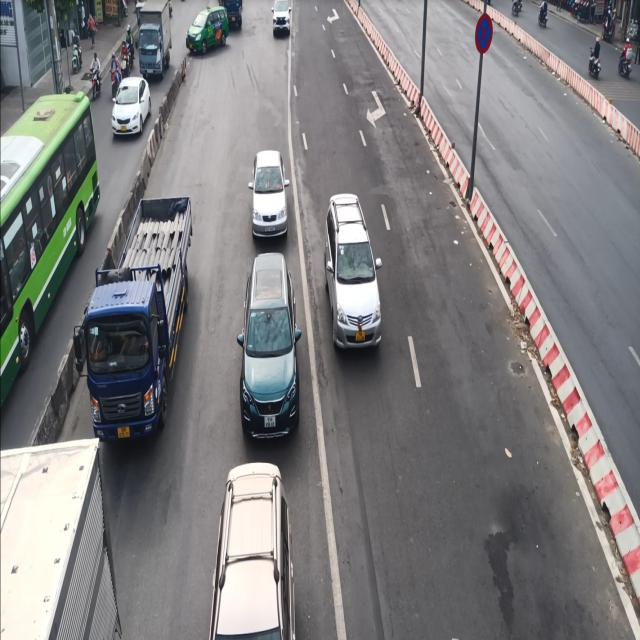bus: (0, 87, 100, 405)
car: (237, 248, 299, 442), (320, 184, 384, 351), (250, 138, 288, 251), (110, 70, 150, 148)
truck: (85, 182, 196, 447), (132, 0, 175, 80)
